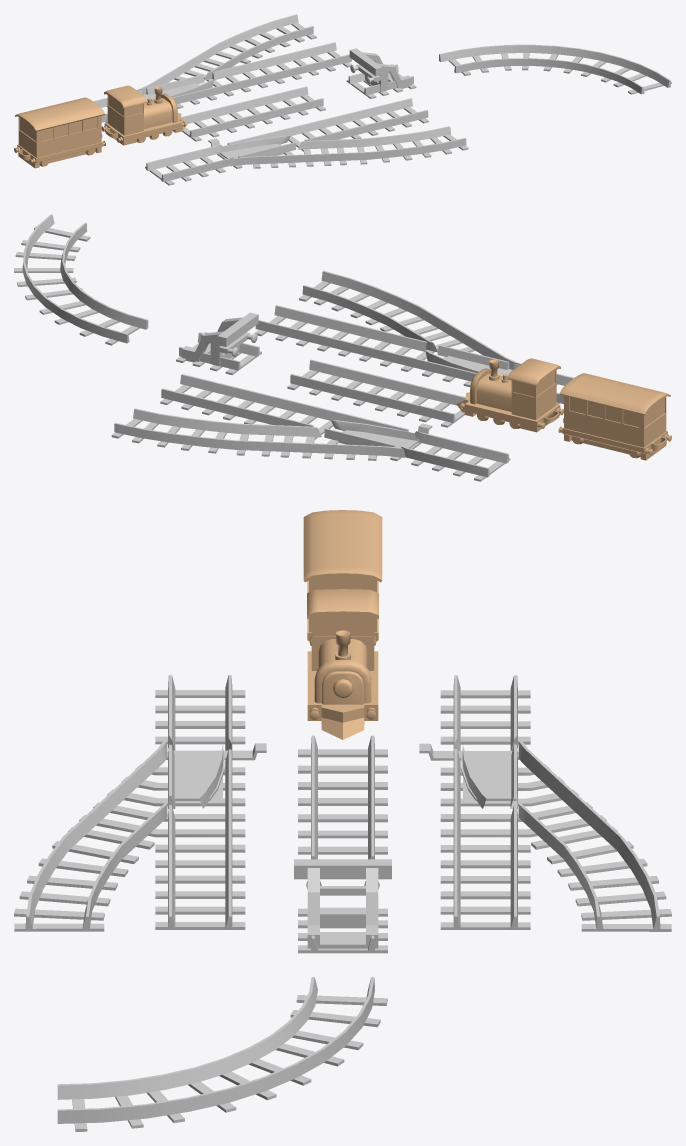
File: Railway.fbx
The picture shows the model from 3 angles, top to bottom: view 1: azimuth 30°, elevation 25°; view 2: azimuth 150°, elevation 25°; view 3: azimuth 270°, elevation 25°; orthographic projection. The views are drawn at different scales.
Parts seen in each view (by area): view 1: Railway_switch_1, Railway_switch_2, Railway_wagon, Railway_corner, Railway_steamengine, Railway_straight, Railway_stop, Railway_switch_1_fork, Railway_switch_2_fork; view 2: Railway_switch_2, Railway_switch_1, Railway_wagon, Railway_steamengine, Railway_corner, Railway_straight, Railway_stop, Railway_switch_2_fork, Railway_switch_1_fork; view 3: Railway_switch_2, Railway_switch_1, Railway_corner, Railway_steamengine, Railway_stop, Railway_wagon, Railway_straight, Railway_switch_1_fork, Railway_switch_2_fork.
Boxes of the visible parts, x1,y1,x2,y2 form: Railway_switch_1: (145, 98, 468, 185); Railway_switch_2: (93, 14, 352, 122); Railway_wagon: (14, 97, 105, 168); Railway_corner: (439, 44, 671, 94); Railway_steamengine: (101, 85, 188, 145); Railway_straight: (181, 86, 325, 141); Railway_stop: (346, 48, 416, 98); Railway_switch_1_fork: (208, 135, 295, 158); Railway_switch_2_fork: (143, 74, 213, 99); Railway_switch_2: (111, 374, 510, 481); Railway_switch_1: (255, 270, 574, 404); Railway_wagon: (558, 373, 671, 460); Railway_steamengine: (456, 358, 563, 432); Railway_corner: (14, 214, 148, 345); Railway_straight: (287, 359, 465, 427); Railway_stop: (176, 312, 261, 375); Railway_switch_2_fork: (324, 420, 432, 448); Railway_switch_1_fork: (425, 345, 512, 377); Railway_switch_2: (440, 675, 671, 931); Railway_switch_1: (14, 675, 245, 931); Railway_corner: (57, 977, 387, 1131); Railway_steamengine: (307, 589, 378, 739); Railway_stop: (294, 859, 391, 953); Railway_wagon: (303, 510, 382, 645); Railway_straight: (298, 735, 387, 859); Railway_switch_1_fork: (168, 743, 266, 808); Railway_switch_2_fork: (419, 743, 517, 808).
Bounding box in the file's own units: 87.64 × 7.84 × 46.1.
